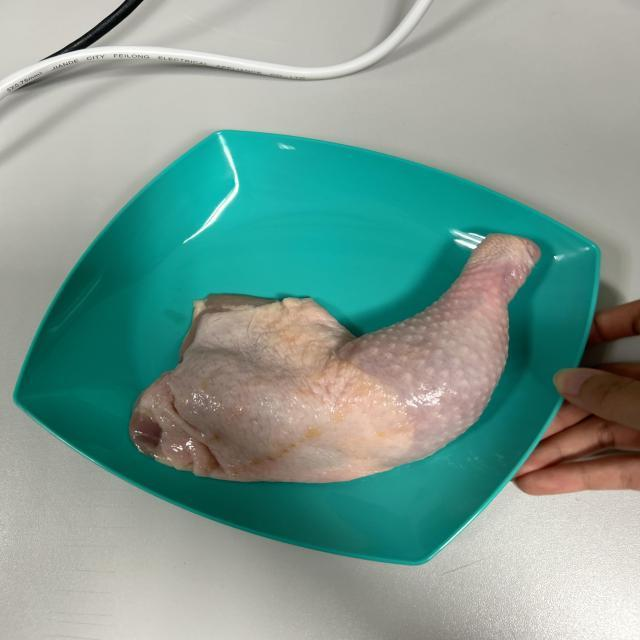quater: (111, 234, 534, 488)
